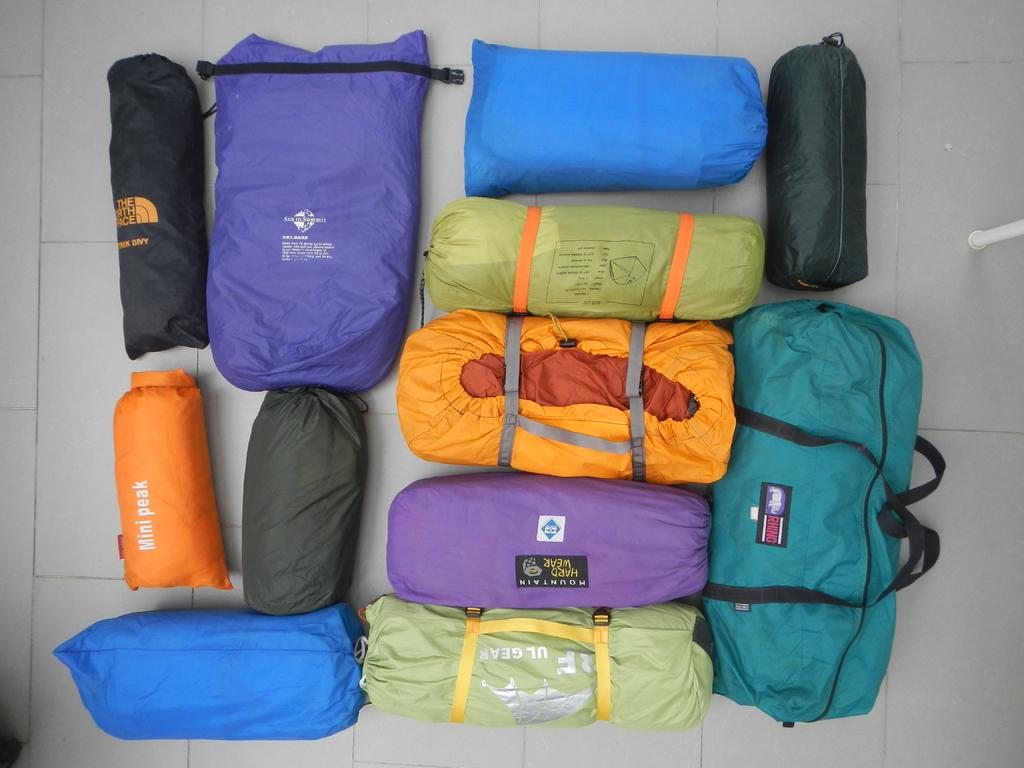Luggage-and-bags: (53, 34, 946, 739)
